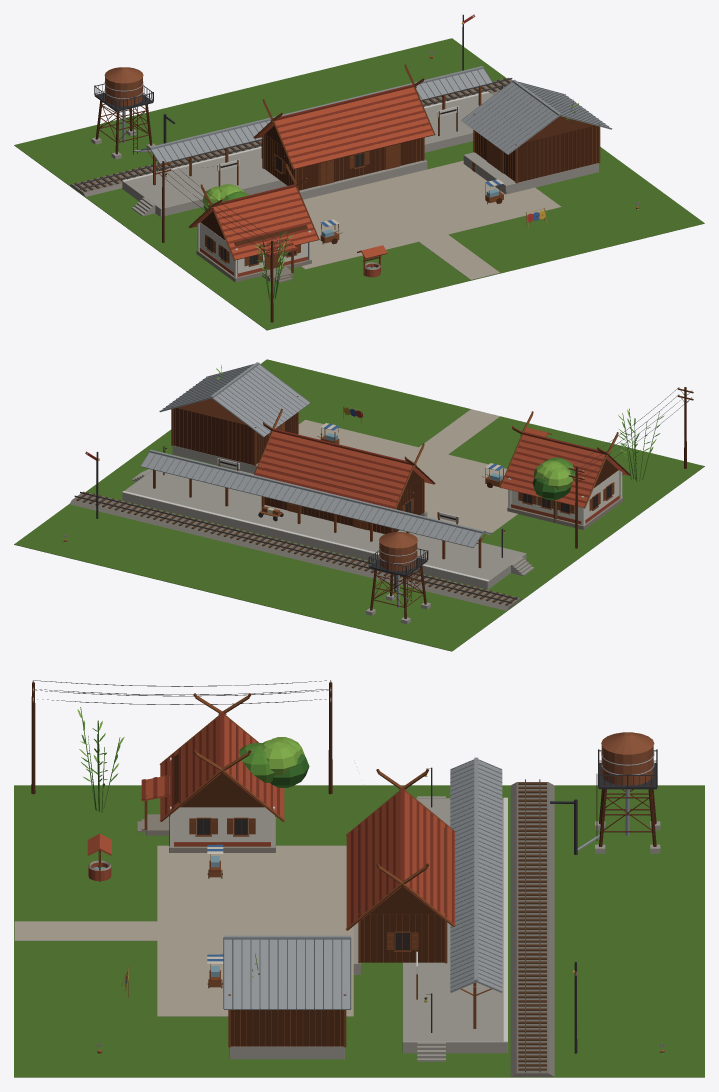
The model's file is station.glb.
3 views of the same model, one above another, from view 1: azimuth 30°, elevation 25°; view 2: azimuth 150°, elevation 25°; view 3: azimuth 270°, elevation 25° (orthographic). The views are drawn at different scales.
Visible parts, largest first — view 1: body; view 2: body; view 3: body, windows.
Boxes of the visible parts, x1,y1,x2,y2 form: body: (14,14,704,330); body: (14,359,704,651); body: (14,680,704,1077); windows: (197,774,574,1001).
Bounding box in the file's own units: 47.9 × 9.03 × 47.9.
